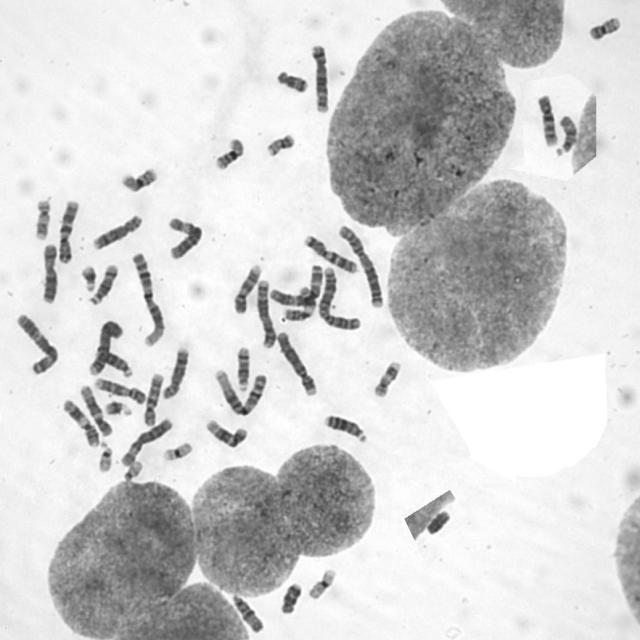A1: (128, 247, 166, 348), (210, 364, 269, 417)
A2: (334, 220, 386, 309), (314, 262, 364, 331)
A3: (12, 308, 60, 376), (266, 260, 325, 306)
B4: (274, 327, 320, 397), (84, 315, 124, 377)
B5: (306, 39, 332, 114), (253, 275, 277, 350)
C10: (533, 90, 560, 148), (139, 368, 165, 428)
C11: (59, 395, 101, 448), (280, 280, 316, 322)
C12: (76, 380, 113, 437), (202, 415, 249, 449)
C6: (116, 413, 174, 468), (162, 212, 205, 261)
C7: (300, 230, 360, 274), (54, 195, 80, 264)
C8: (88, 210, 145, 250), (158, 342, 190, 400)
C9: (89, 374, 147, 406), (230, 260, 264, 314)
D13: (321, 409, 368, 444), (89, 346, 134, 378)
D14: (84, 259, 120, 306), (232, 341, 251, 392)
D15: (228, 590, 266, 634), (551, 111, 579, 157)
E16: (210, 132, 246, 172), (117, 162, 159, 193)
E17: (370, 356, 403, 399), (29, 194, 52, 242)
E18: (272, 65, 310, 94), (276, 578, 304, 615)
F19: (304, 564, 338, 601), (158, 438, 194, 462)
F20: (584, 11, 622, 41), (262, 128, 297, 158)
G21: (77, 261, 98, 293), (101, 396, 133, 417)
G22: (94, 438, 115, 474), (119, 456, 144, 481)
X: (36, 238, 60, 305)
Y: (422, 504, 452, 536)
